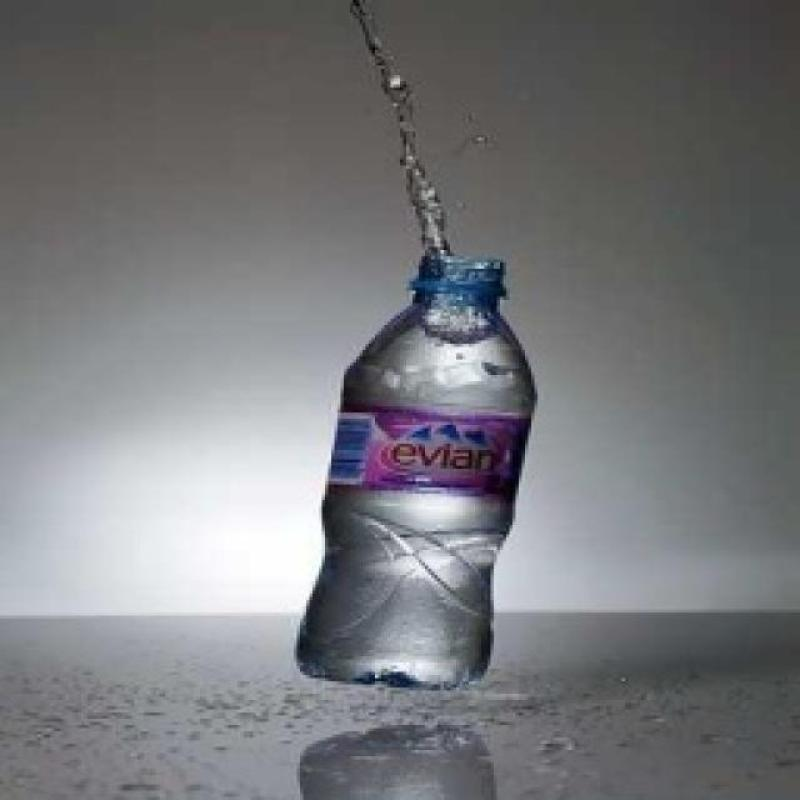botella: (298, 259, 542, 690)
